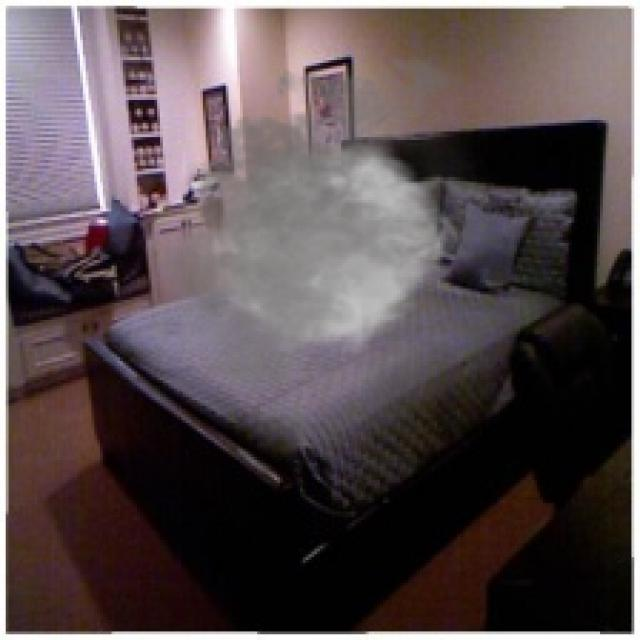smoke: (140, 46, 511, 403)
